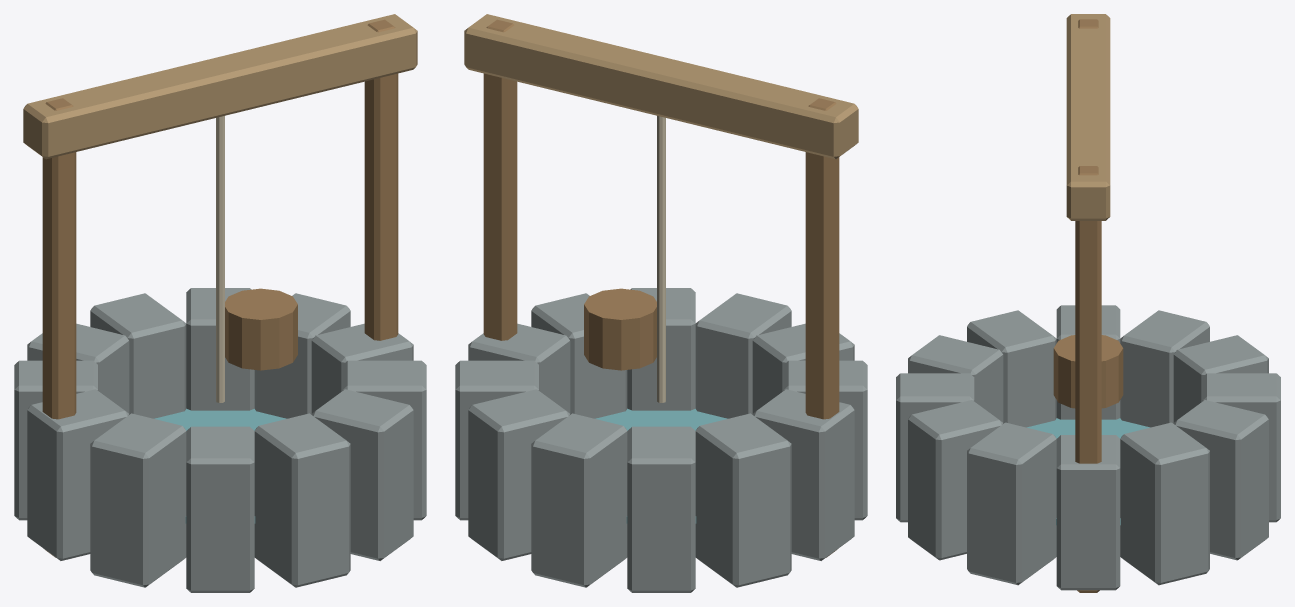
Rendered from well.glb.
3 renders of one model, left to right at view 1: azimuth 30°, elevation 25°; view 2: azimuth 150°, elevation 25°; view 3: azimuth 270°, elevation 25°, orthographic. The views are drawn at different scales.
Visible parts, largest first — view 1: Model; view 2: Model; view 3: Model.
Boxes of the visible parts, x1,y1,x2,y2 form: Model: [14, 14, 426, 592]; Model: [455, 14, 867, 592]; Model: [896, 14, 1280, 592].
Bounding box in the file's own units: 1.4 × 1.6 × 1.33.
